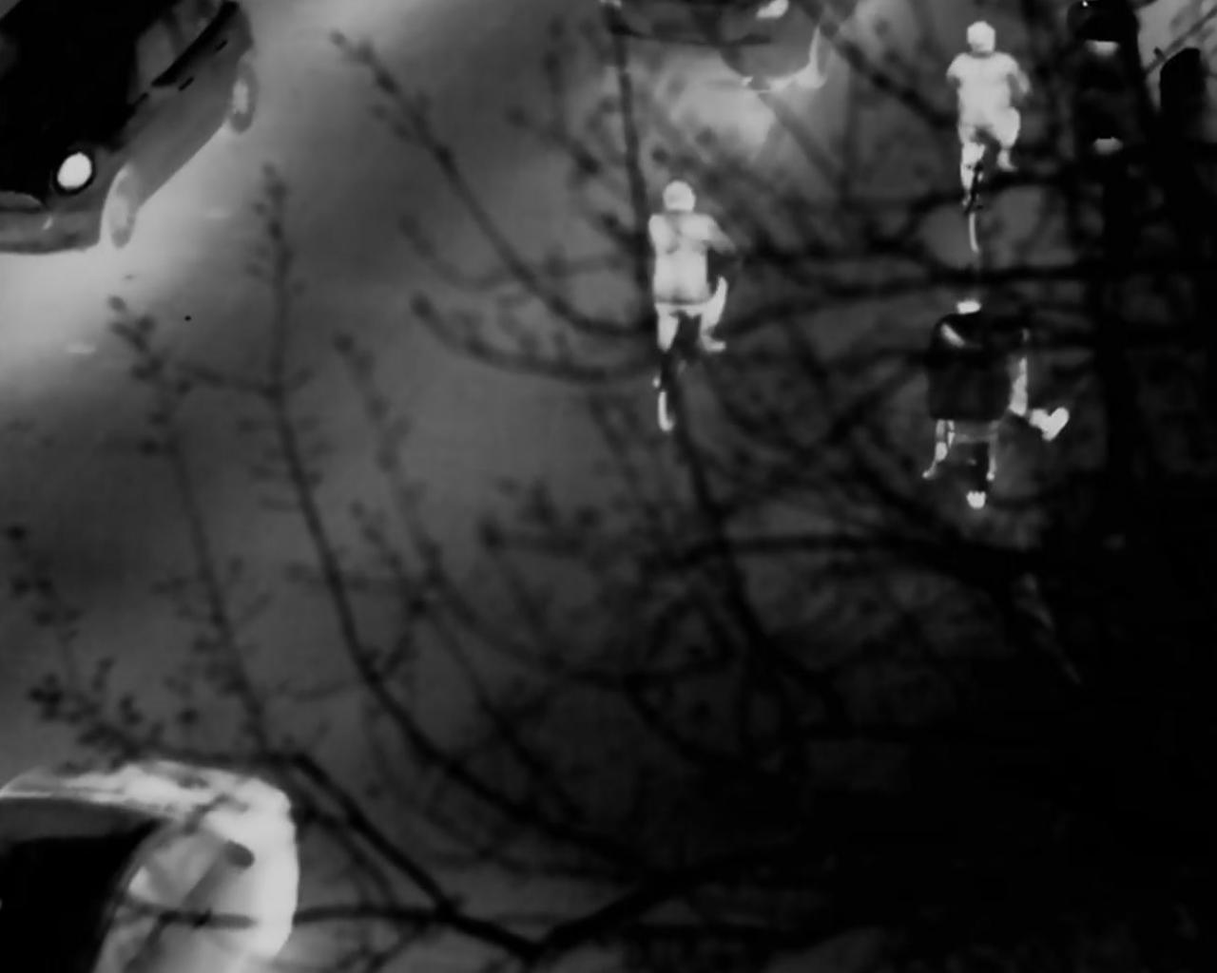person: (938, 298, 1056, 479), (636, 181, 745, 374), (950, 17, 1028, 215)
